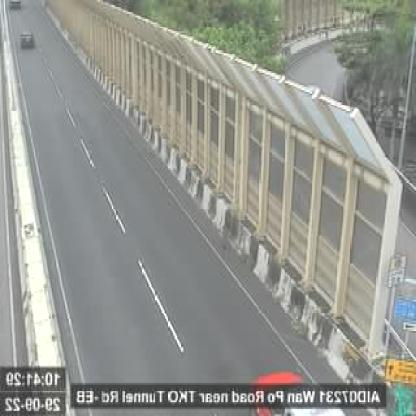Car: (18, 24, 36, 50)
